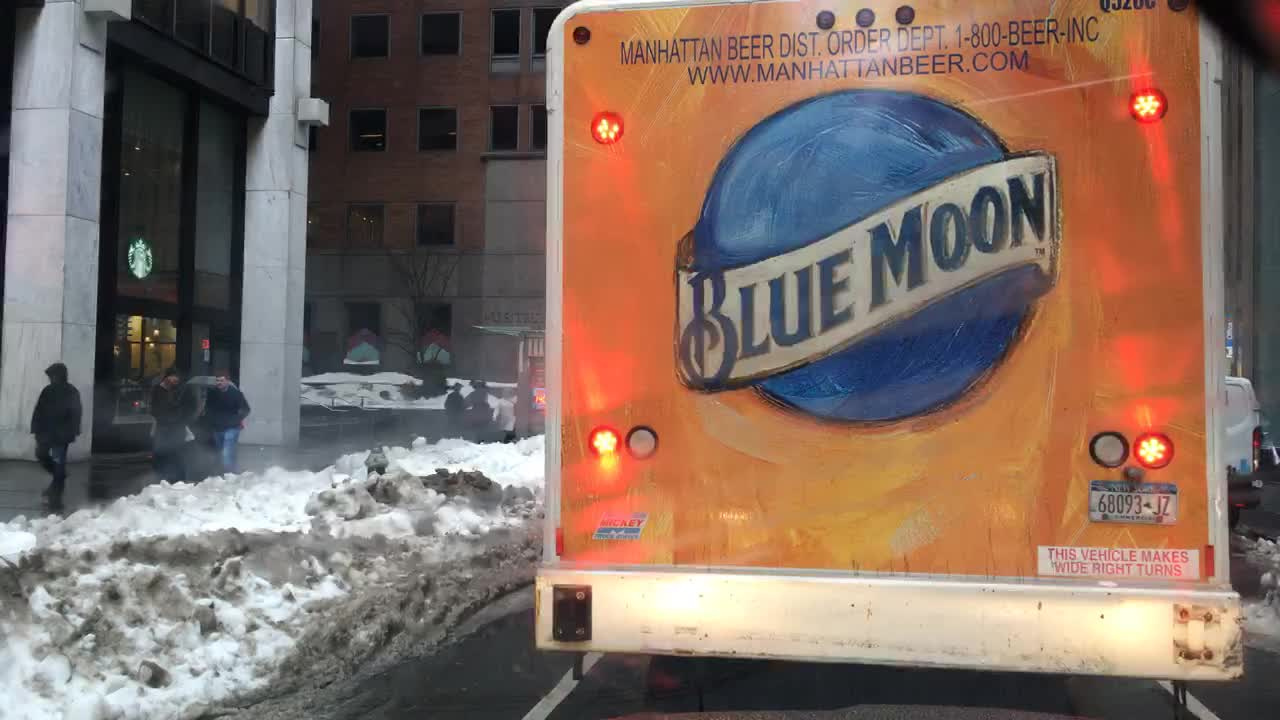person: (27, 360, 83, 514), (153, 359, 188, 486), (205, 371, 247, 471), (441, 371, 462, 437), (469, 383, 490, 439), (497, 381, 516, 439)
truck: (532, 0, 1244, 701), (1224, 374, 1265, 509)
